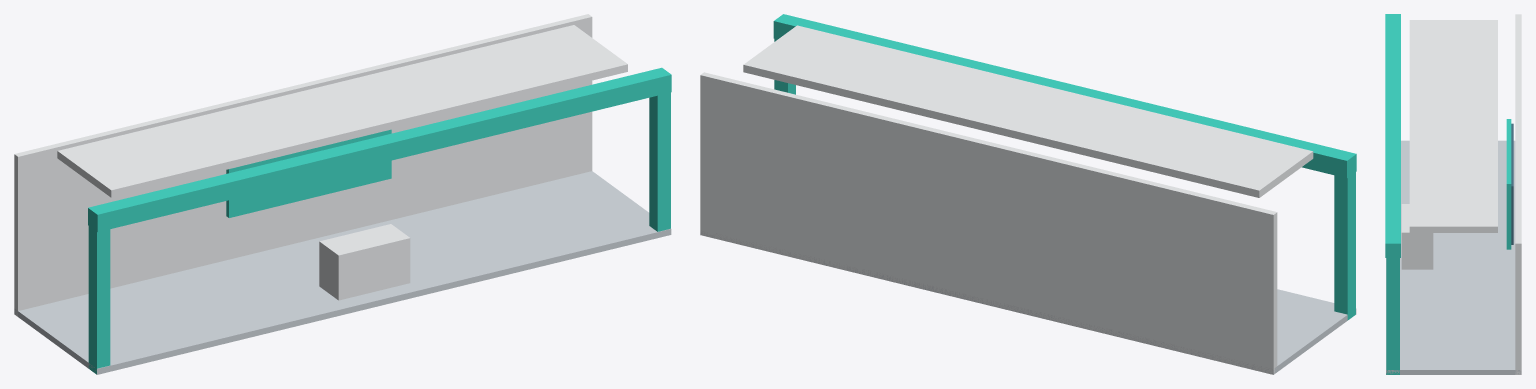
3 views of the same model, side by side, from view 1: azimuth 30°, elevation 25°; view 2: azimuth 150°, elevation 25°; view 3: azimuth 270°, elevation 25° (orthographic). The views are drawn at different scales.
Visible parts, largest first — view 1: Exhibition Booth Concept; view 2: Exhibition Booth Concept; view 3: Exhibition Booth Concept.
Part boxes in pixels (box(x1,y1,x2,y2)): Exhibition Booth Concept: box(14, 14, 671, 374); Exhibition Booth Concept: box(700, 14, 1356, 374); Exhibition Booth Concept: box(1385, 14, 1521, 374).
Bounding box in the file's own units: 12 × 3.34 × 3.01.
